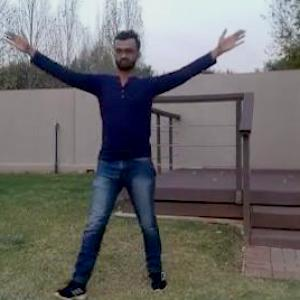takeoff: (7, 32, 247, 296)
